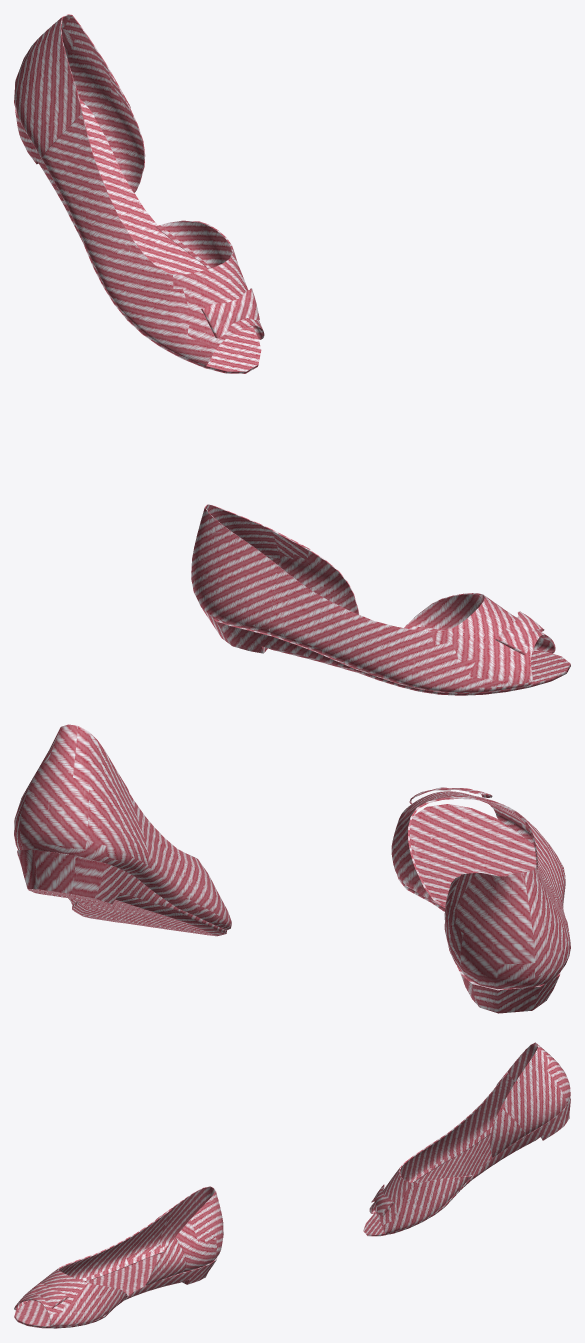
Rendered from gaogenxie03_4.fbx.
3 renders of one model, top to bottom at view 1: azimuth 30°, elevation 25°; view 2: azimuth 150°, elevation 25°; view 3: azimuth 270°, elevation 25°, orthographic. The views are drawn at different scales.
Parts seen in each view (by area): view 1: gaogenxie03_4; view 2: gaogenxie03_4; view 3: gaogenxie03_4.
Part boxes in pixels (<box>): gaogenxie03_4: <box>14,14,570,695</box>; gaogenxie03_4: <box>14,724,570,1013</box>; gaogenxie03_4: <box>14,1042,570,1328</box>.
Size of the model in its own units: 18.97 by 30.14 by 59.04.
